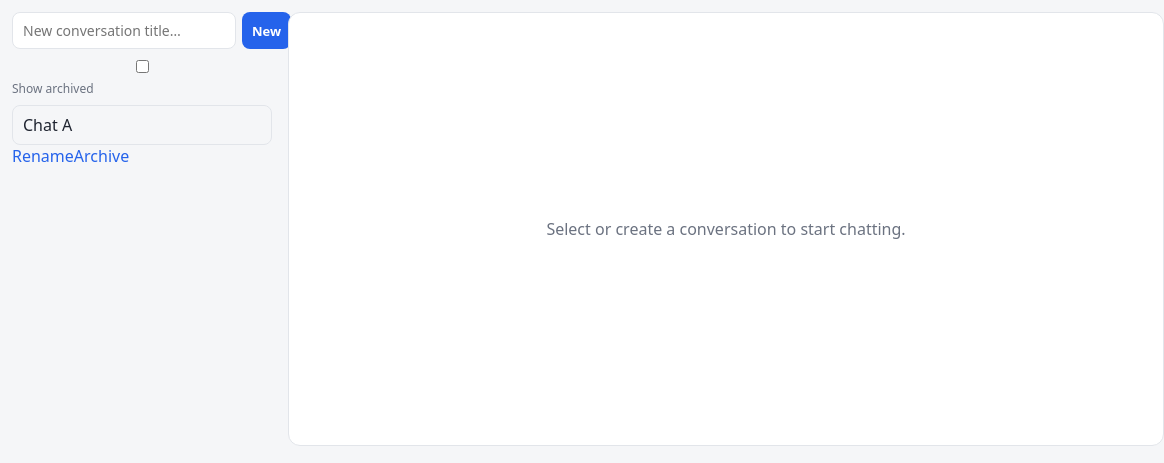
Test: ChatConsolePage › shows the no-messages state for a fresh conversation
Click the button "Chat A". click: click(48, 125)
box: left=12, top=105, right=272, bottom=145
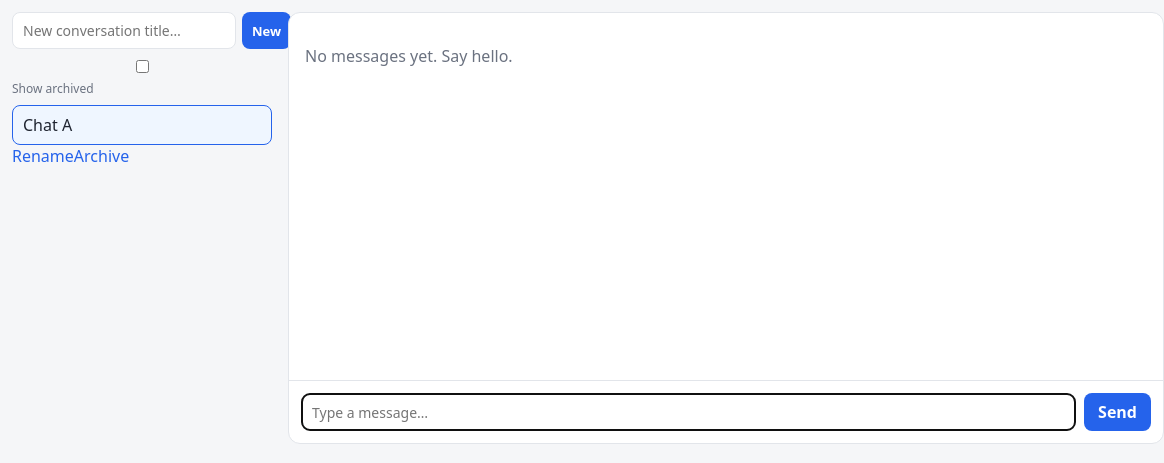
Check: the text "No messages yet. Say hello." is shown, box left=305, top=45, right=513, bottom=67
